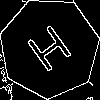H: (24, 23, 80, 82)
